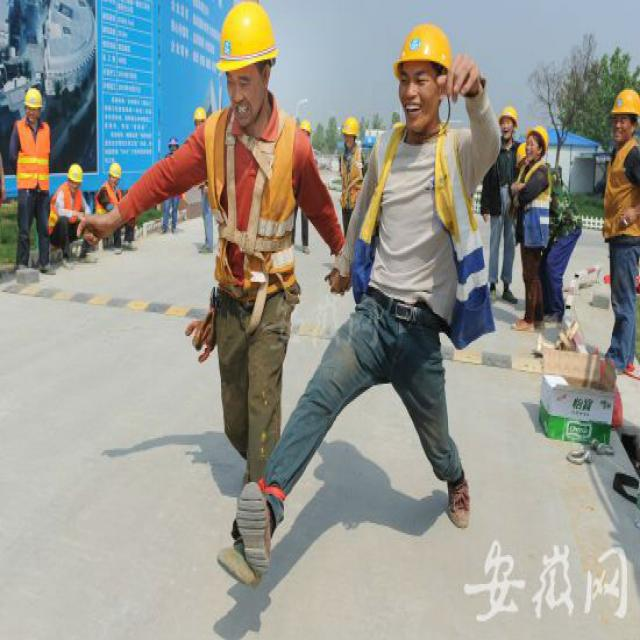Reflective-Jacket: (363, 122, 486, 311), (203, 109, 307, 285), (603, 138, 640, 245), (521, 158, 553, 239), (15, 119, 50, 190), (52, 185, 85, 224)
Safety-Helmet: (214, 0, 279, 73), (391, 19, 454, 73), (609, 84, 640, 120), (23, 85, 44, 109), (341, 114, 360, 138), (499, 102, 519, 124), (67, 162, 84, 184), (110, 161, 122, 177)
